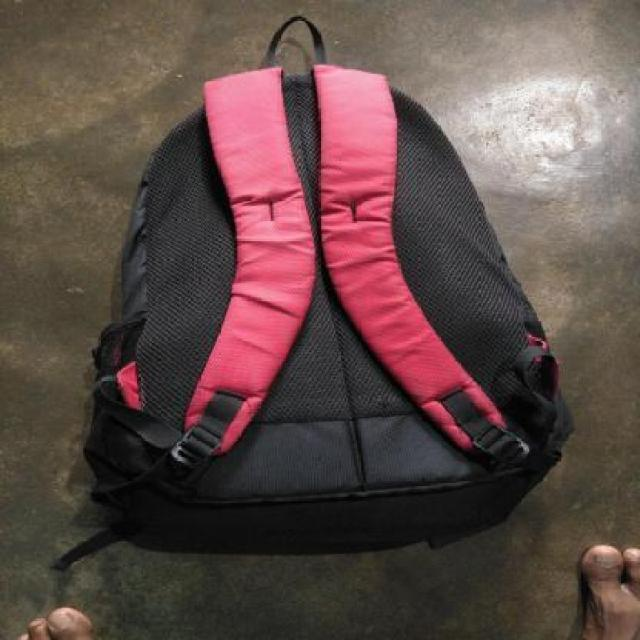backpack: (76, 12, 578, 556)
